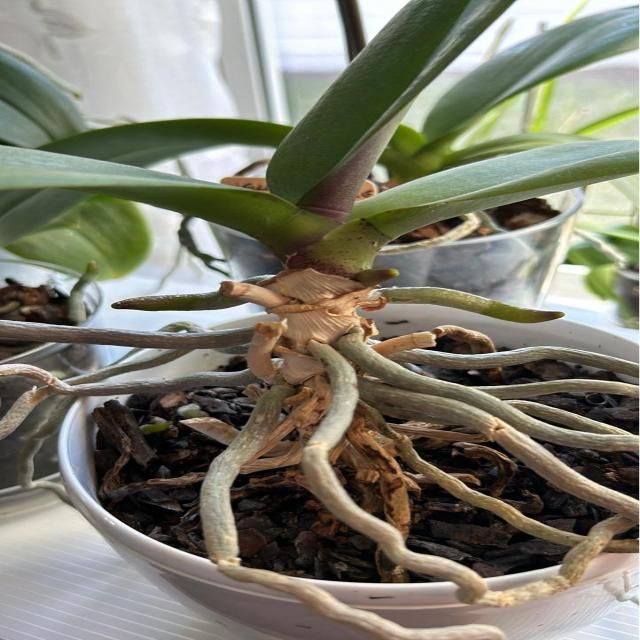leaf: (276, 0, 510, 203), (421, 2, 637, 143), (354, 139, 637, 238), (0, 151, 298, 238), (53, 119, 287, 166), (1, 46, 81, 145)
plant: (28, 16, 640, 640)
pot: (51, 301, 640, 608)
root: (300, 342, 488, 600), (359, 378, 637, 524), (336, 333, 639, 454), (210, 544, 503, 640), (0, 350, 257, 439), (401, 449, 580, 546), (480, 516, 636, 606), (394, 346, 638, 384), (345, 412, 410, 536), (0, 321, 254, 351), (201, 420, 256, 542), (380, 288, 564, 324), (465, 379, 637, 400), (112, 290, 247, 311)
